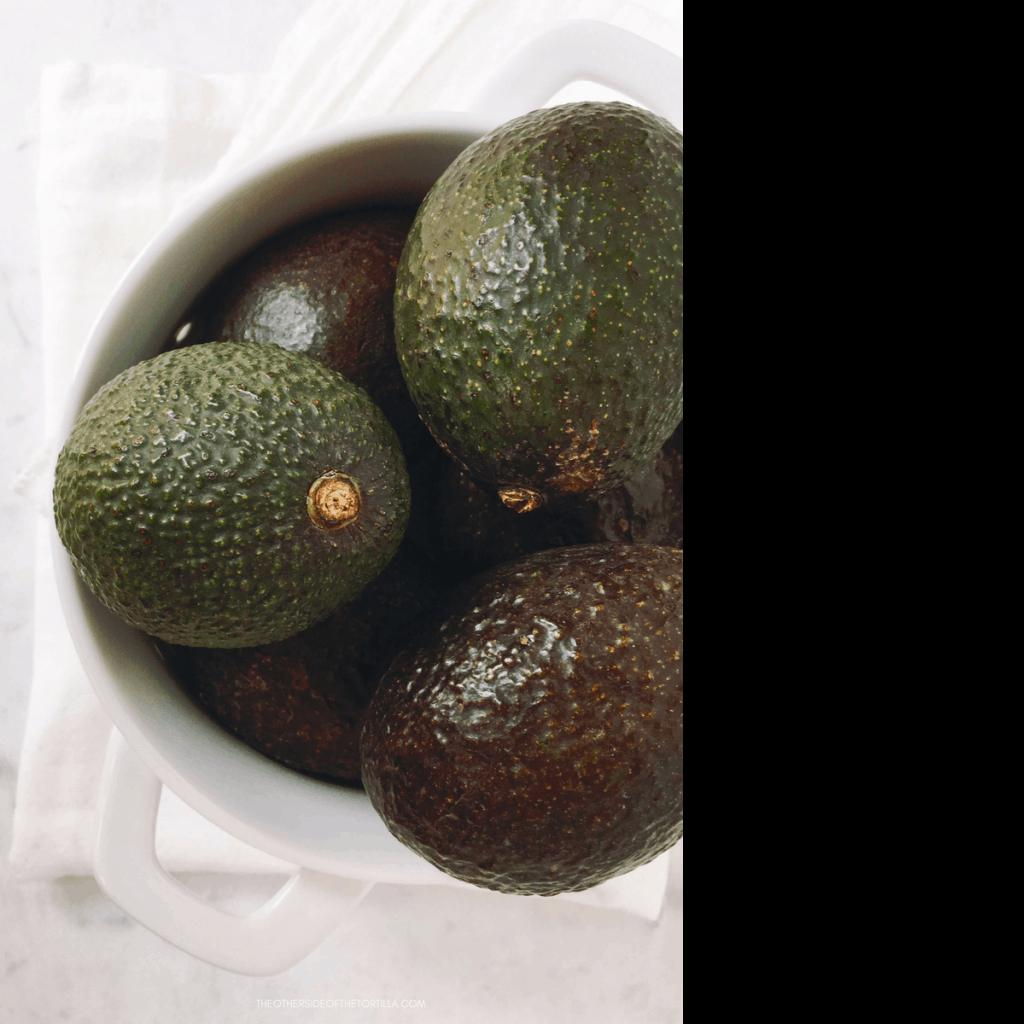almost: (392, 100, 683, 508), (53, 343, 410, 649)
ripe: (359, 542, 681, 897)
